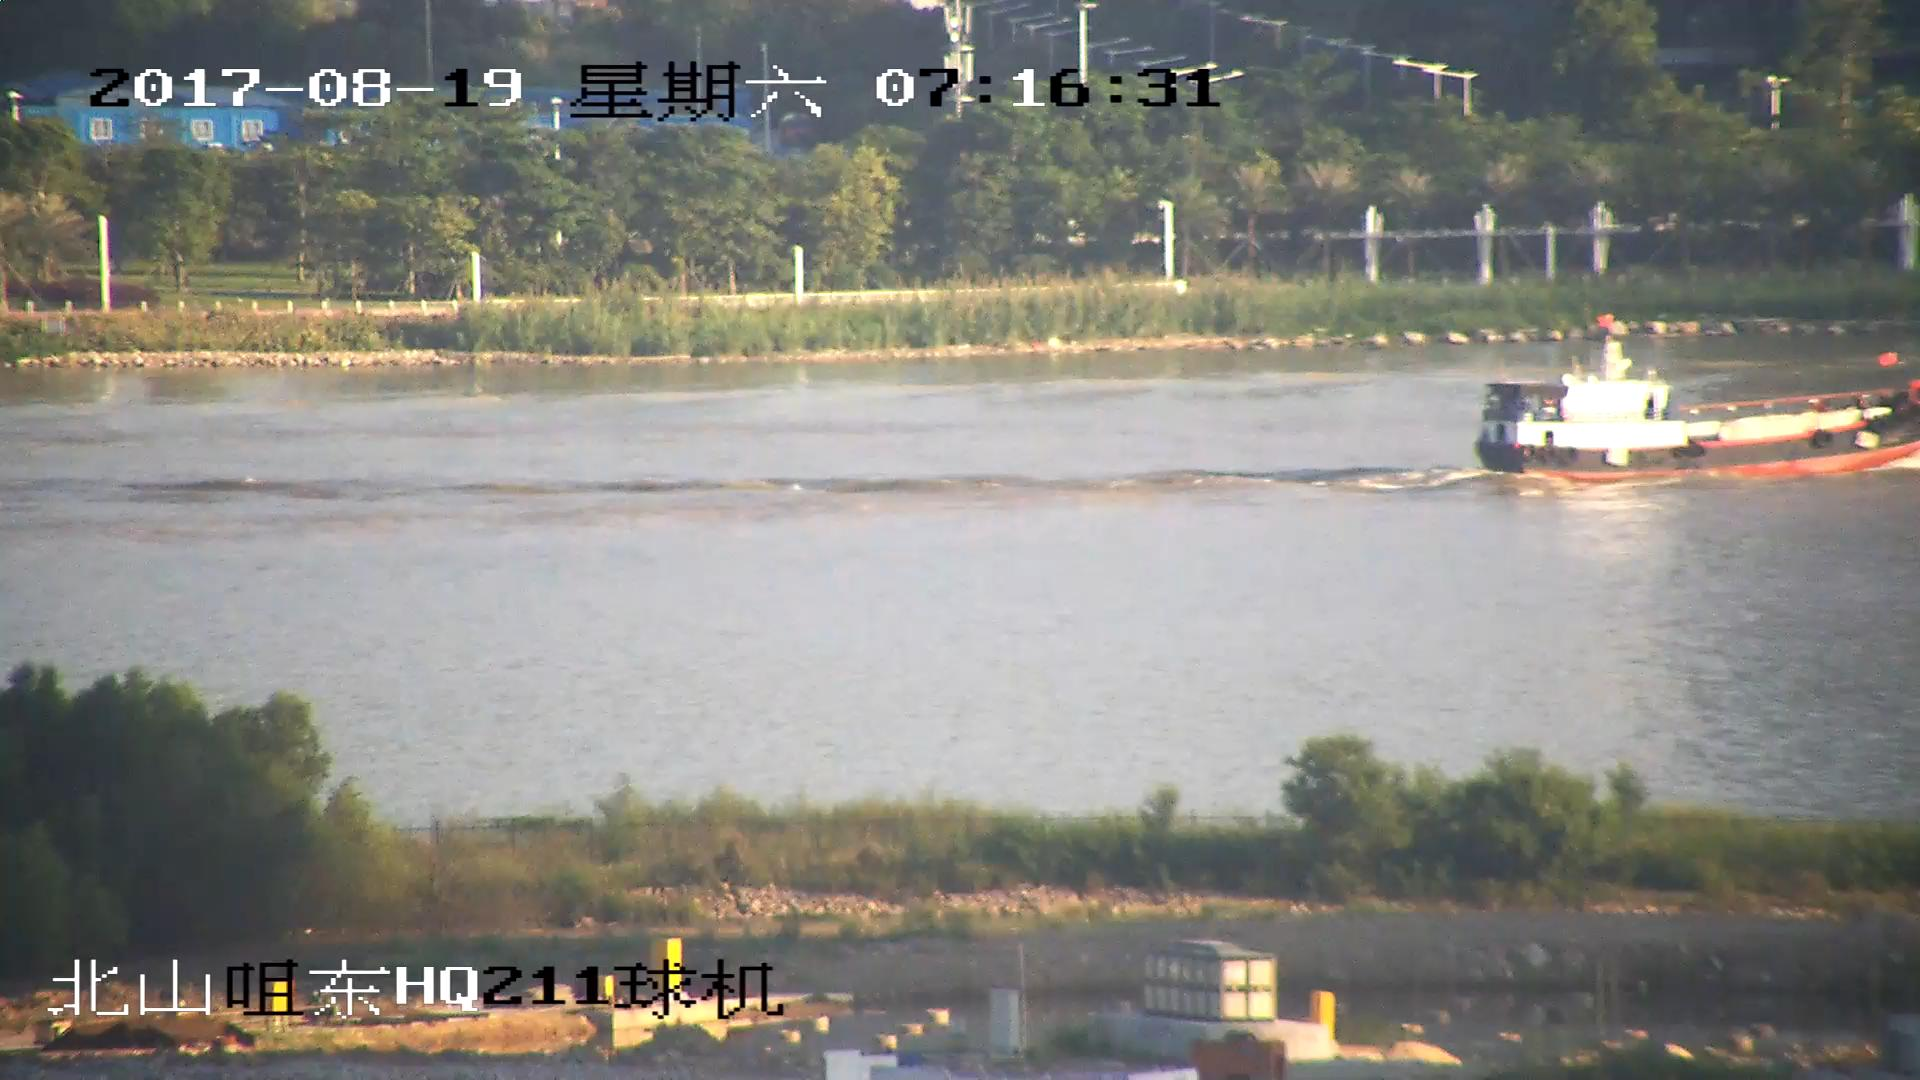fishing boat: (1487, 326, 1920, 487)
